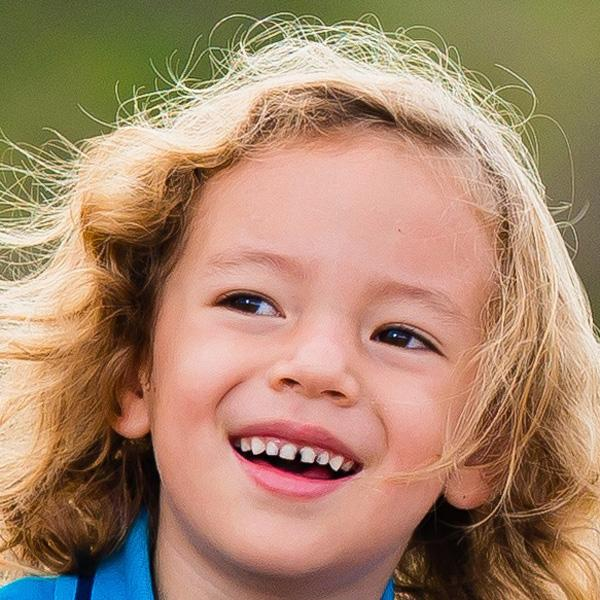Eyes: (201, 275, 294, 332), (359, 308, 450, 365)
